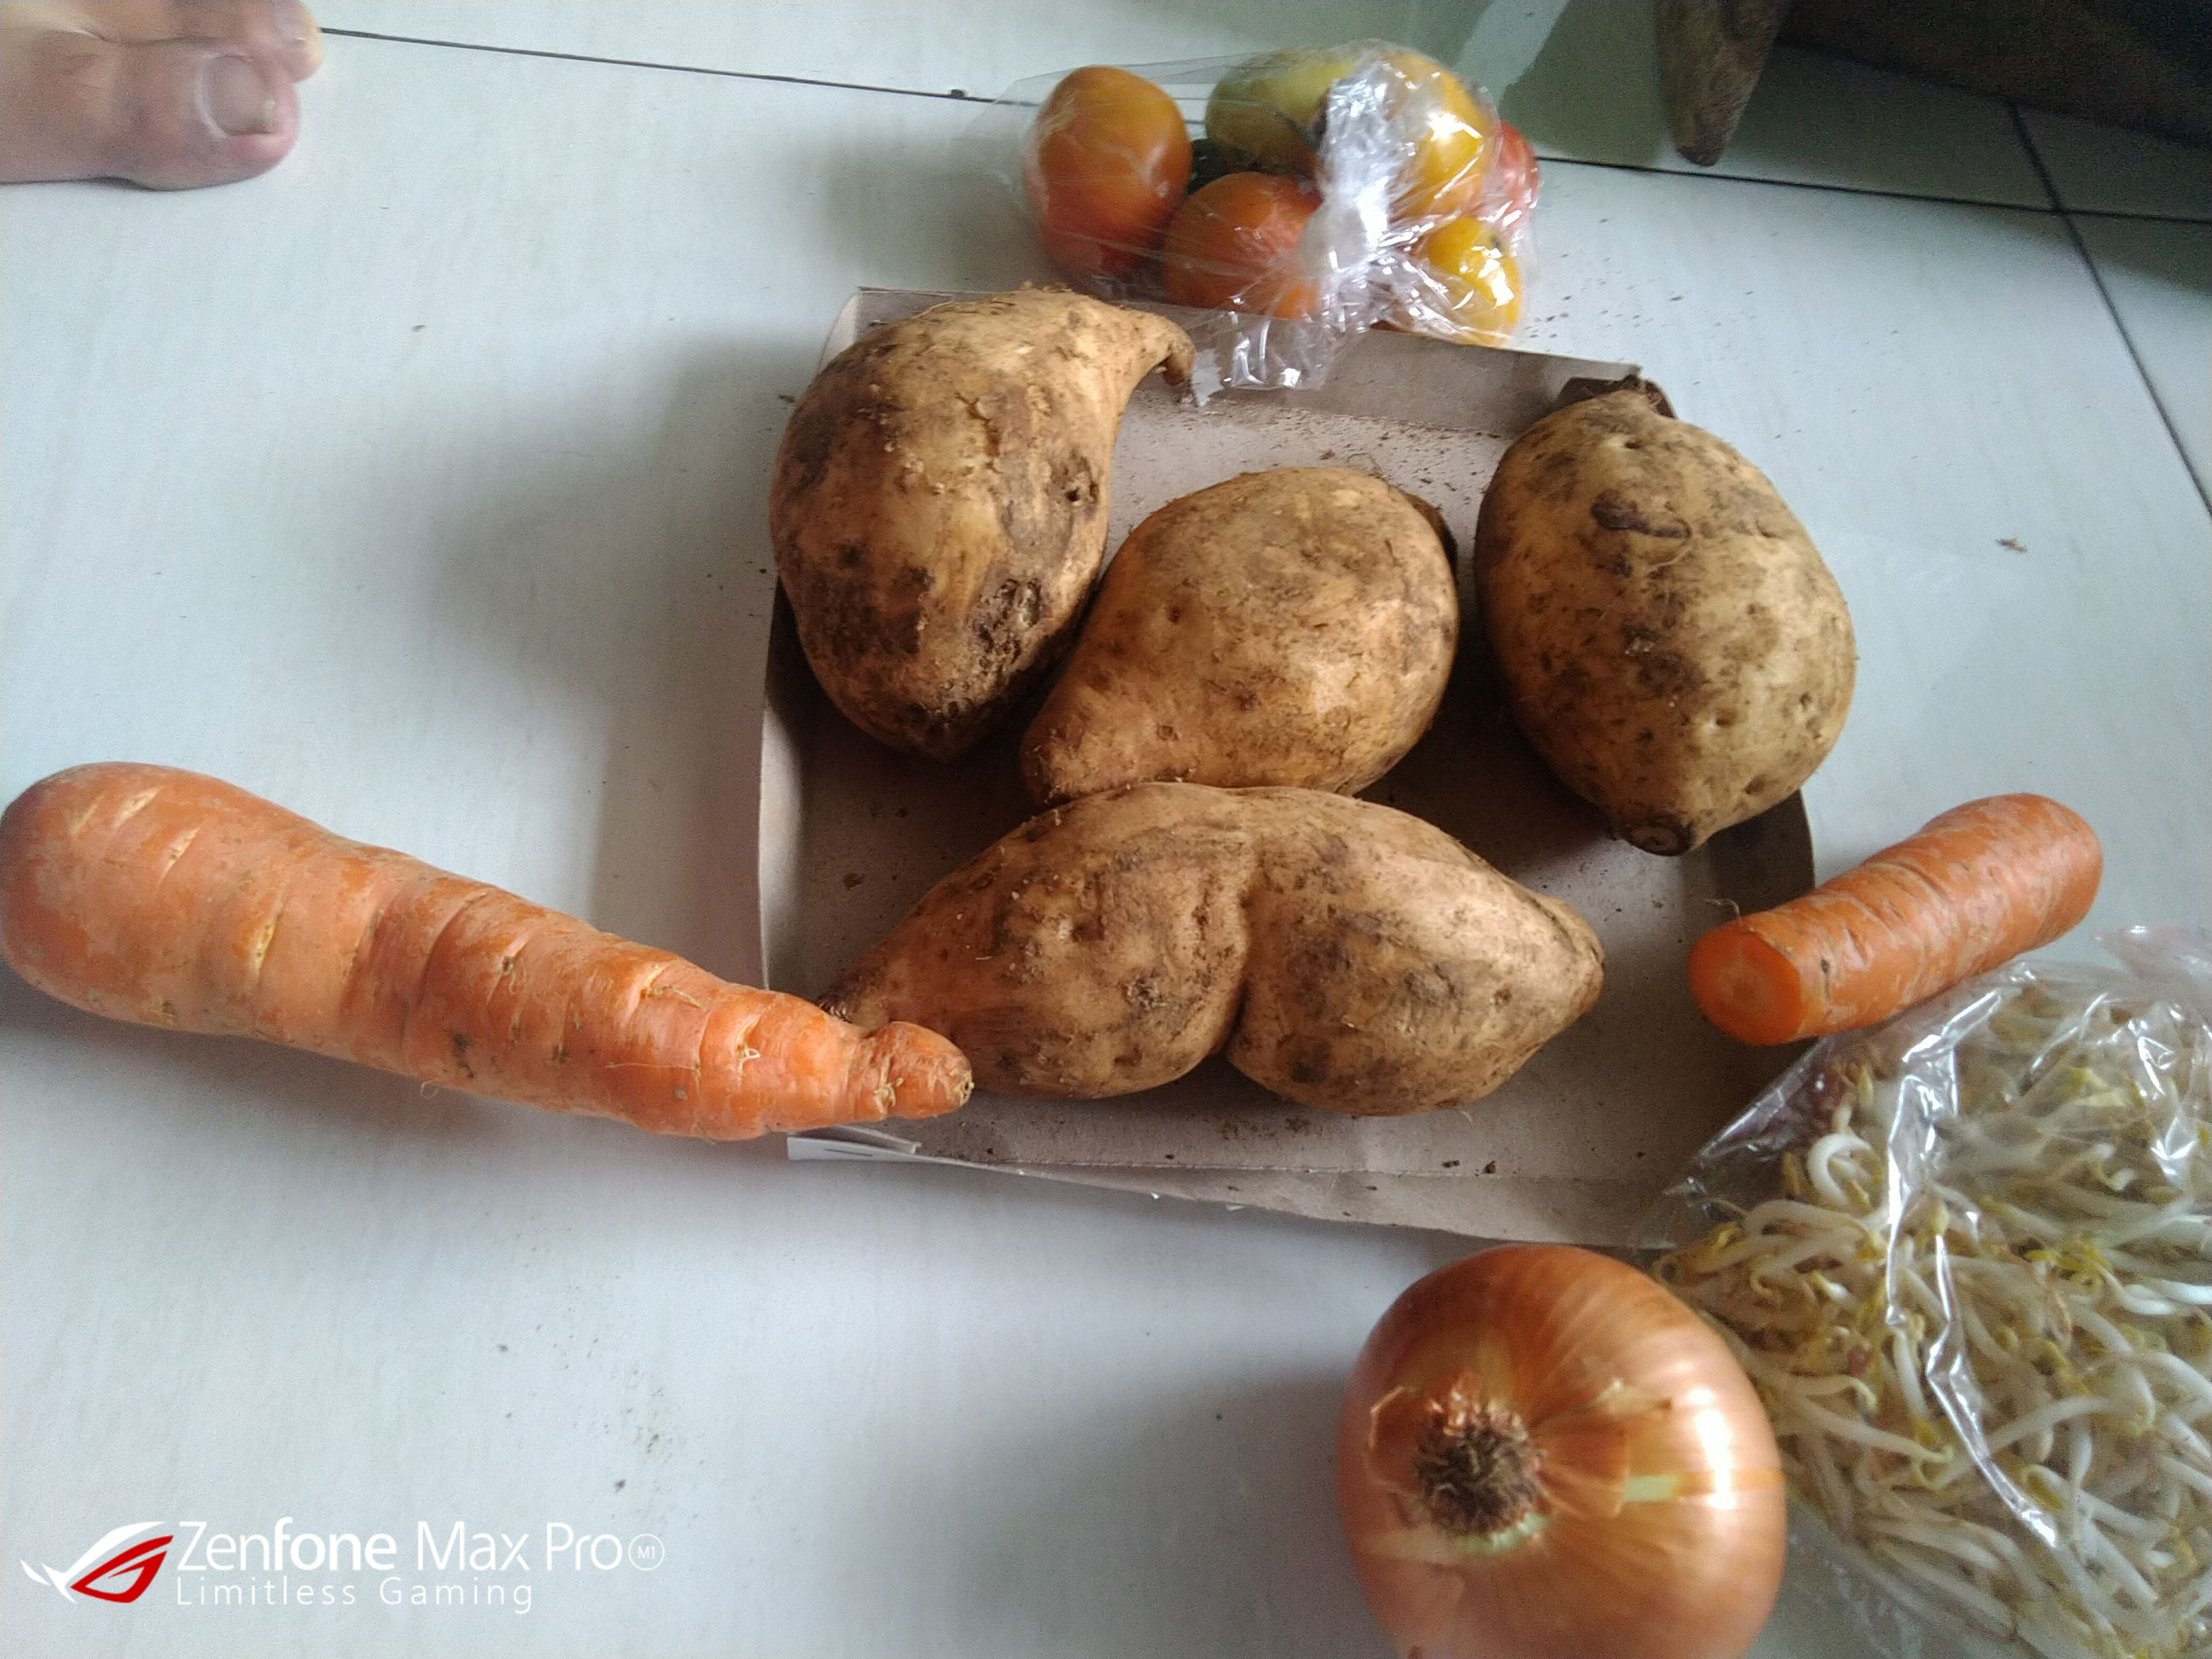ubi kuning: (806, 774, 1613, 1136), (759, 277, 1191, 762), (1475, 369, 1865, 859), (996, 462, 1496, 810)
